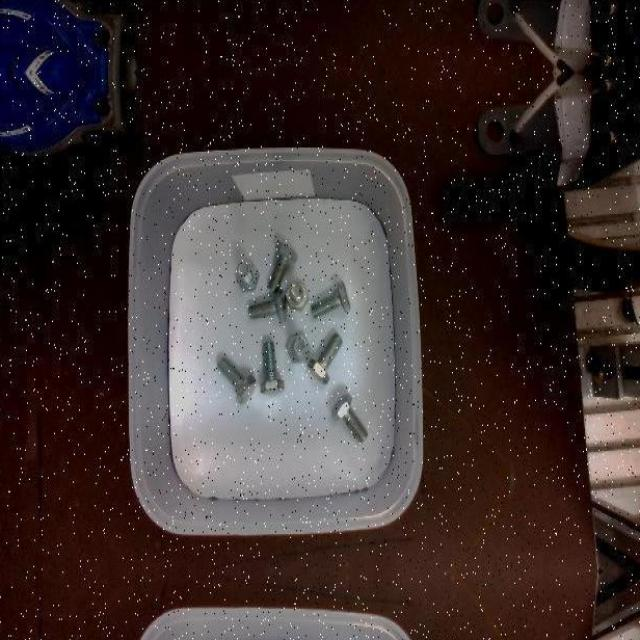screw: (307, 332, 343, 386), (217, 354, 256, 403), (332, 394, 369, 444), (268, 240, 299, 292), (312, 280, 351, 318), (248, 288, 287, 322), (260, 341, 284, 395), (235, 259, 261, 290), (286, 334, 312, 364), (286, 282, 310, 310)
